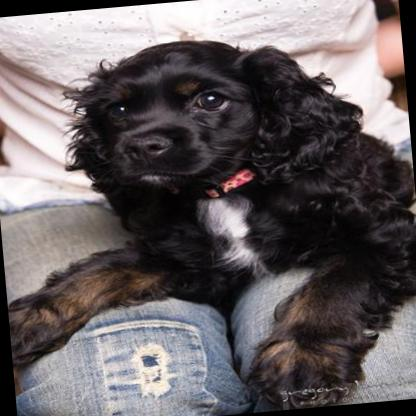cocker_spaniel: (0, 23, 416, 416)
